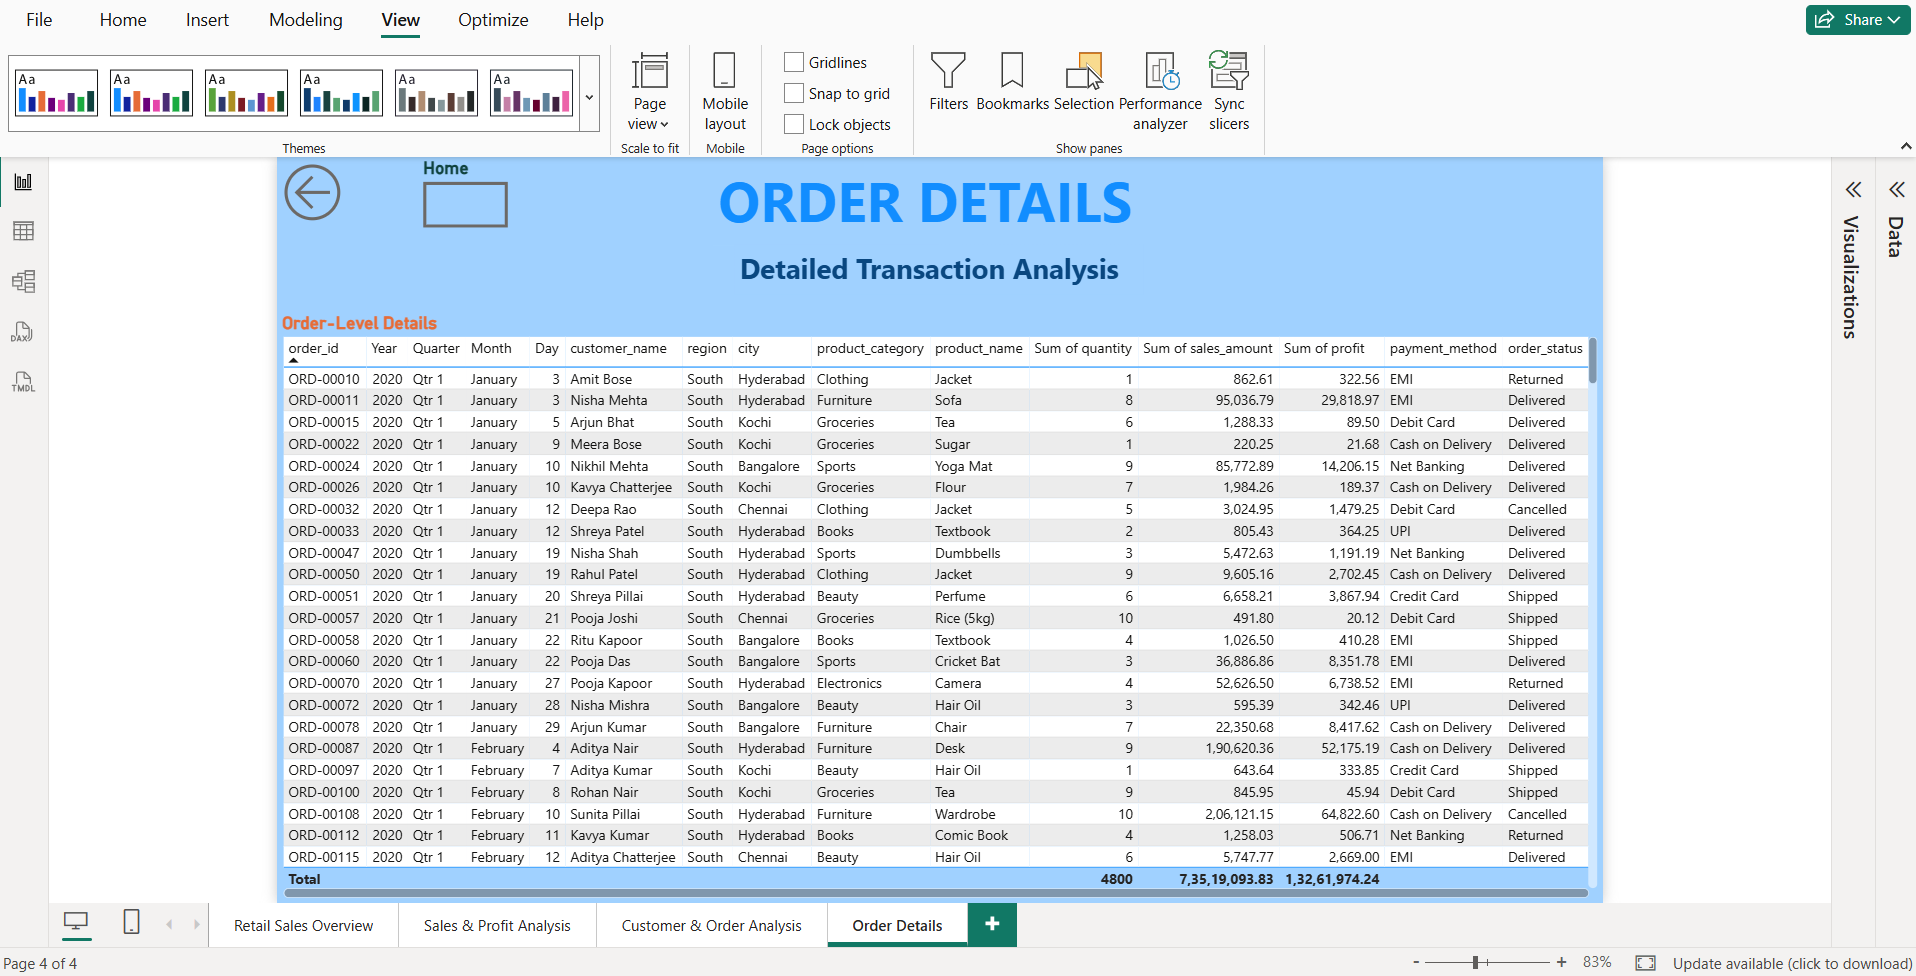

The page's visual inventory and layout, read from the dashboard file:
{"tool":"powerbi","page":{"name":"Order Details","canvas":[1280,720],"ordinal":3},"visuals":[{"type":"textbox","box":[420.7,0,414.5,85.6],"z":0},{"type":"textbox","box":[441.2,85,394.3,48.4],"z":1000},{"type":"tableEx","title":"Order-Level Details","fields":{"Values":["Cleaned Data.order_id","Cleaned Data.order_date.Variation.Date Hierarchy.Year","Cleaned Data.order_date.Variation.Date Hierarchy.Quarter","Cleaned Data.order_date.Variation.Date Hierarchy.Month","Cleaned Data.order_date.Variation.Date Hierarchy.Day","Cleaned Data.customer_name","Cleaned Data.region","Cleaned Data.city","Cleaned Data.product_category","Cleaned Data.product_name","Sum(Cleaned Data.quantity)","Sum(Cleaned Data.sales_amount)"]},"box":[0,149.5,1279.7,570.2],"z":2000},{"type":"actionButton","title":"Back","box":[0,0,100,68.3],"z":3000},{"type":"actionButton","title":"Home","box":[141.7,0,81.7,68.3],"z":4000}]}

Visuals, with their boxes on the page's 1280x720 design canvas (x1, y1, x2, y2). These are canvas units, not pixel positions in the 1916x976 screenshot, which may show the page scaled, cropped or inside an application window:
textbox: locate(421, 0, 835, 86)
textbox: locate(441, 85, 836, 133)
"Order-Level Details" tableEx: locate(0, 150, 1280, 720)
"Back" actionButton: locate(0, 0, 100, 68)
"Home" actionButton: locate(142, 0, 223, 68)
